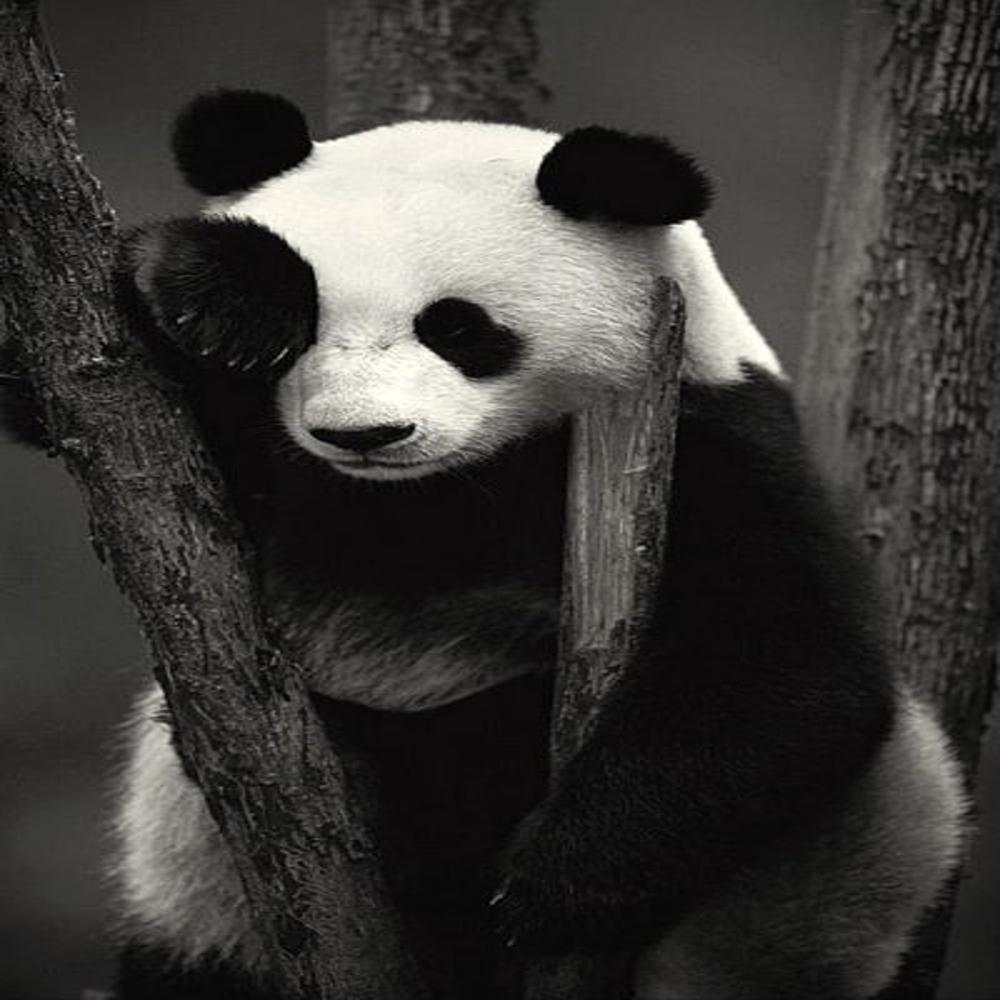panda: (96, 72, 977, 1000)
